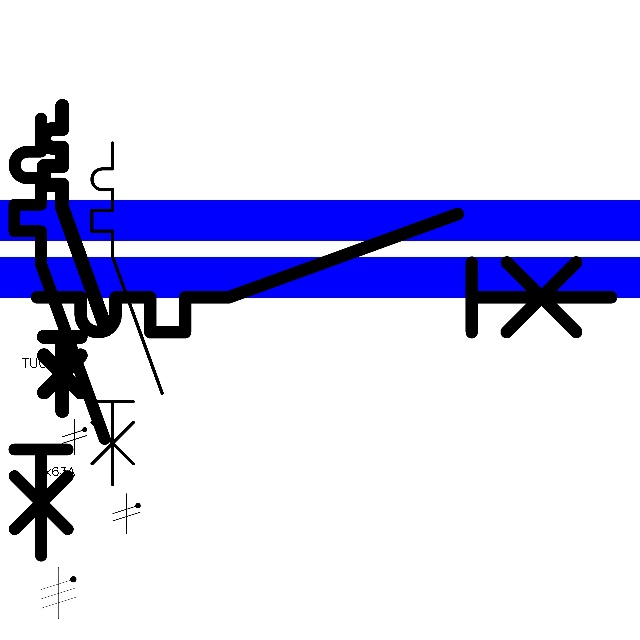interruptor_termomagnetico: (22, 199, 626, 347), (3, 107, 115, 567), (83, 134, 171, 493), (36, 98, 114, 418)
